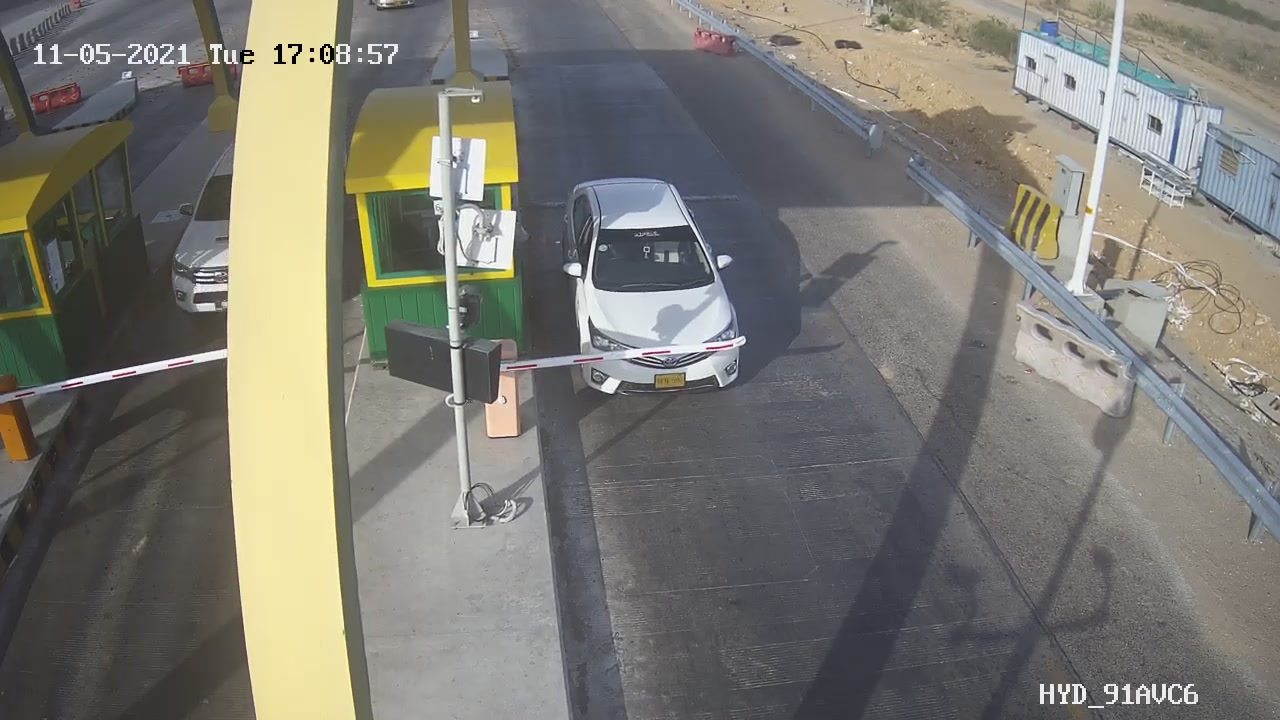F1: (543, 157, 763, 416)
